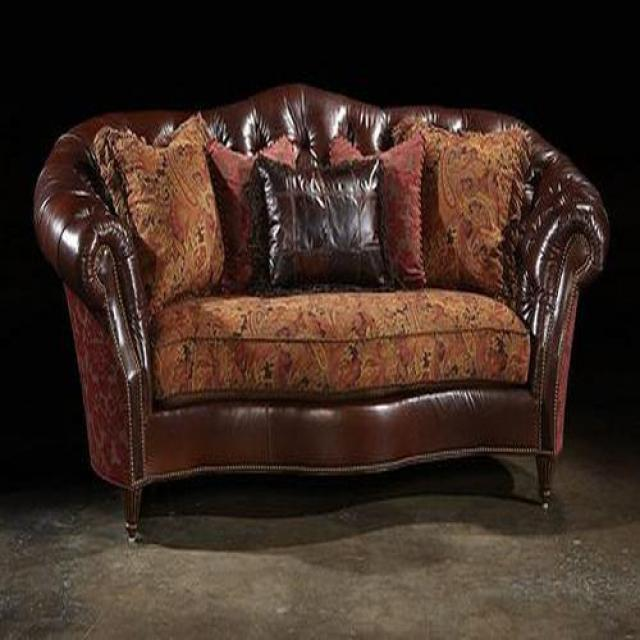sofa: (35, 86, 612, 536)
